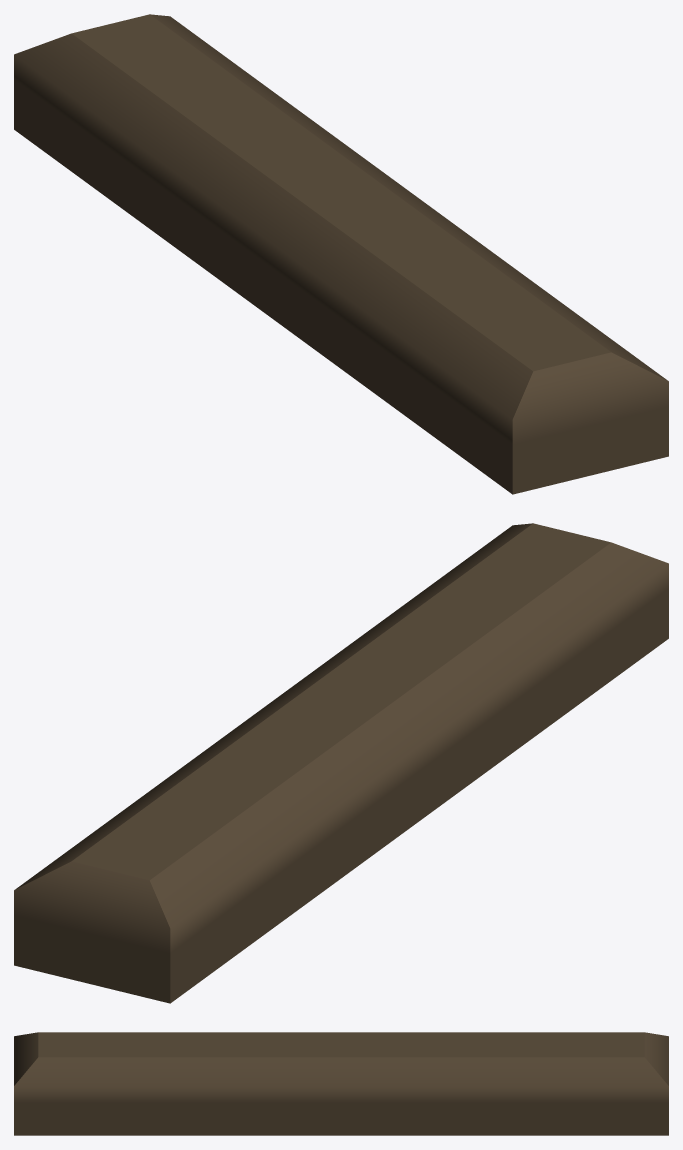
File: garden.fbx
The picture shows the model from 3 angles, top to bottom: view 1: azimuth 30°, elevation 25°; view 2: azimuth 150°, elevation 25°; view 3: azimuth 270°, elevation 25°; orthographic projection. The views are drawn at different scales.
Visible parts, largest first — view 1: pCube1; view 2: pCube1; view 3: pCube1.
Part boxes in pixels (box(x1,y1,x2,y2)): pCube1: box(14, 14, 668, 494); pCube1: box(14, 523, 668, 1003); pCube1: box(14, 1032, 668, 1135).
Bounding box in the file's own units: 1.18 × 0.7218 × 6.51.
